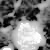node 1: (8, 19, 47, 50)
